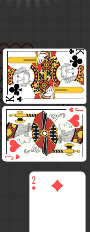JH: (4, 154, 21, 161)
KC: (5, 94, 25, 103)
